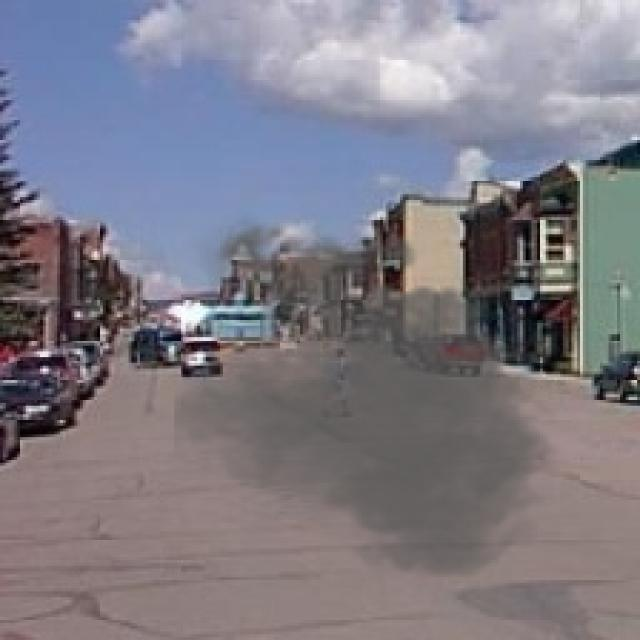smoke: (174, 211, 572, 586)
